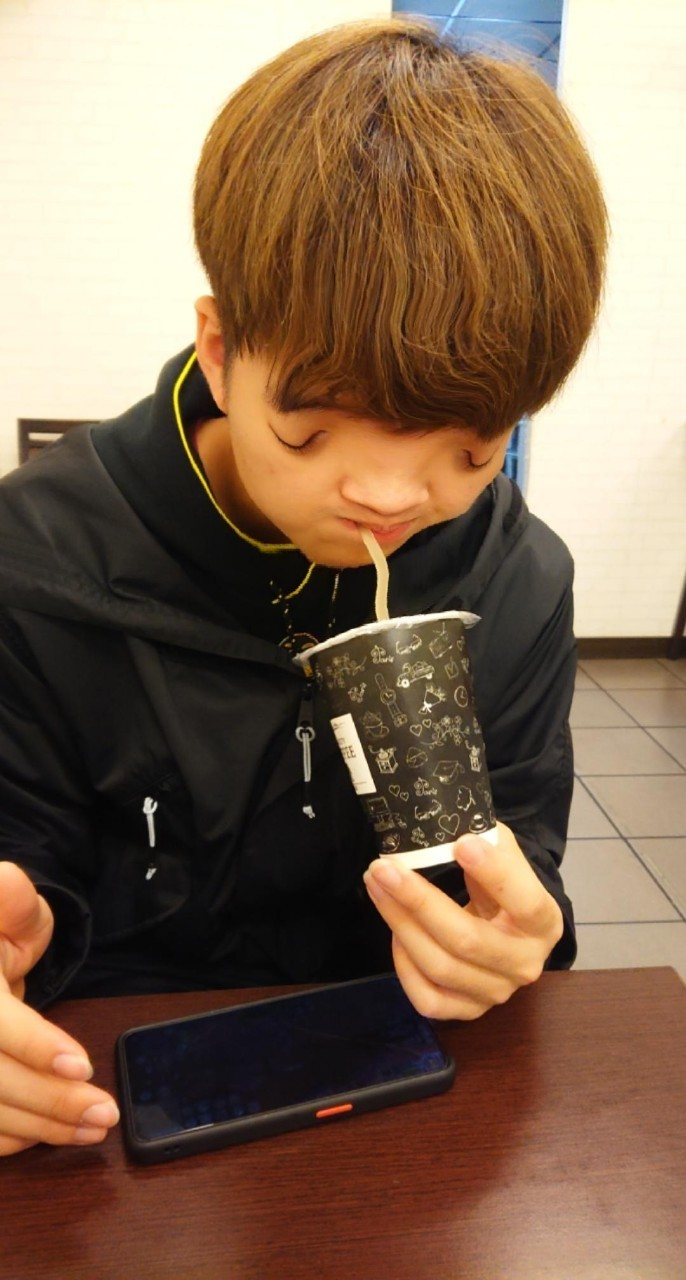people: (5, 25, 611, 1163)
